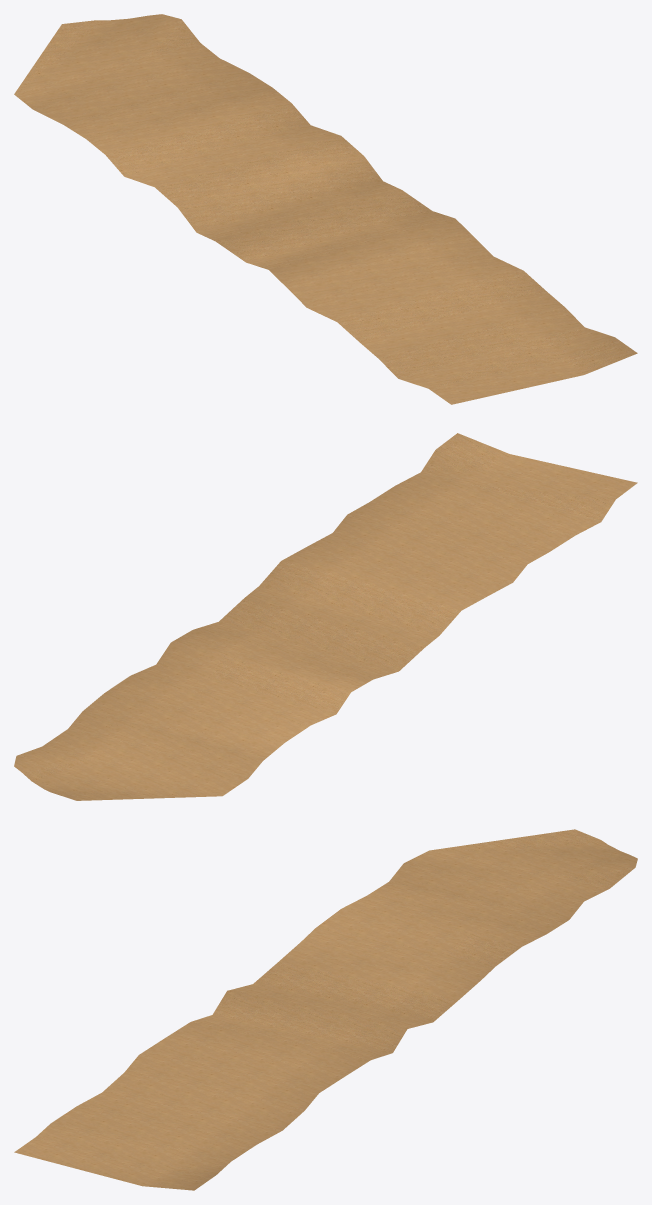
The model's file is M01_Zone3A_XPatch01.glb.
3 renders of one model, top to bottom at view 1: azimuth 30°, elevation 25°; view 2: azimuth 150°, elevation 25°; view 3: azimuth 330°, elevation 25°, orthographic. The views are drawn at different scales.
Parts seen in each view (by area): view 1: M01_ZONE3A_XPATCH01; view 2: M01_ZONE3A_XPATCH01; view 3: M01_ZONE3A_XPATCH01.
Boxes of the visible parts, bbox=[...] form: M01_ZONE3A_XPATCH01: bbox=[14, 14, 637, 404]; M01_ZONE3A_XPATCH01: bbox=[14, 433, 637, 800]; M01_ZONE3A_XPATCH01: bbox=[14, 829, 637, 1190].
Size of the model in its own units: 19.66 by 1.72 by 85.
Materials: 1 (1 with a texture image).
